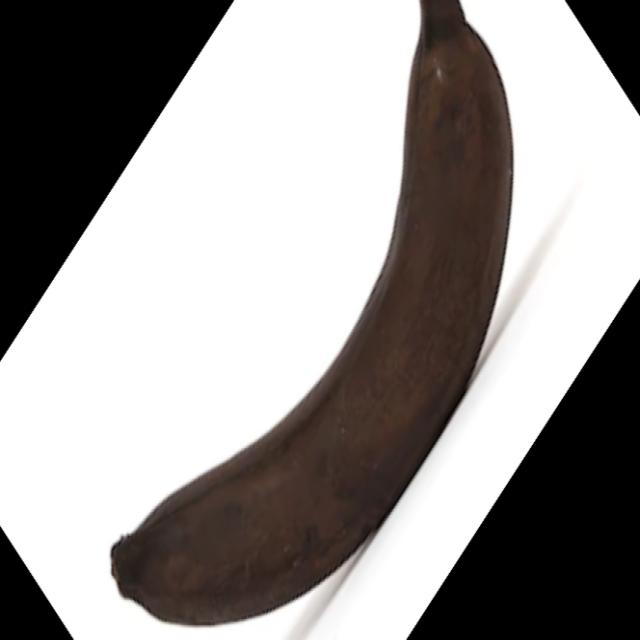Rotten: (109, 0, 513, 626)
